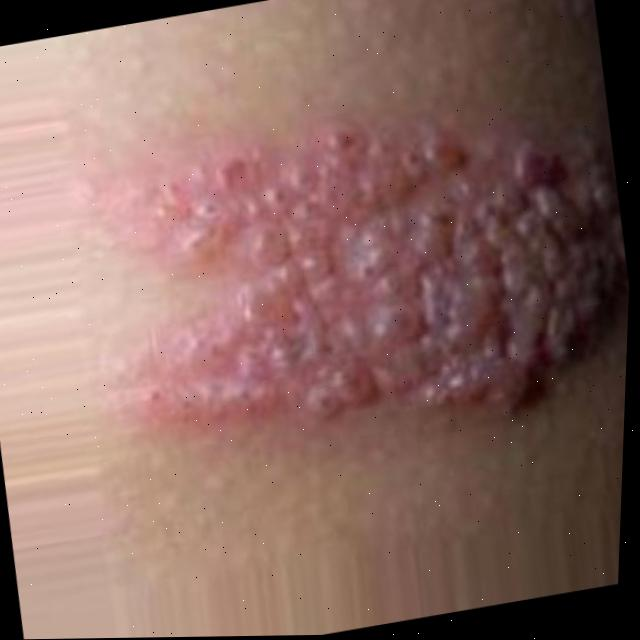Shingles: (75, 81, 637, 487)
